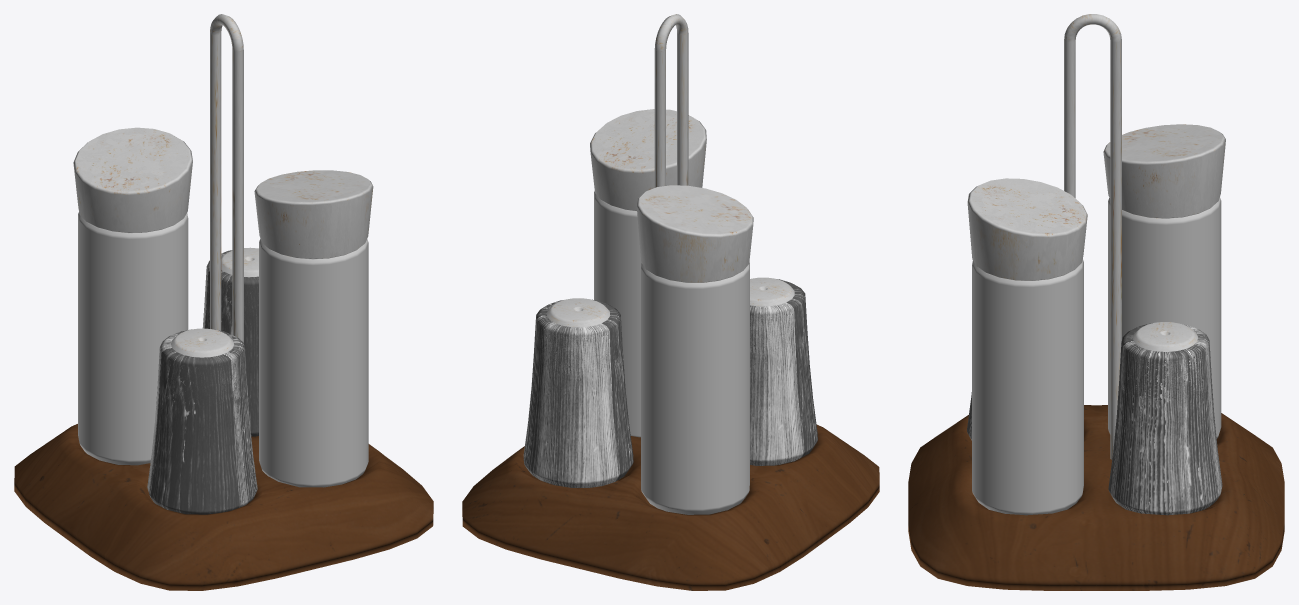
Rendered from SM_KitchenGoods_B1.fbx.
3 renders of one model, left to right at view 1: azimuth 30°, elevation 25°; view 2: azimuth 150°, elevation 25°; view 3: azimuth 270°, elevation 25°, orthographic. The views are drawn at different scales.
Visible parts, largest first — view 1: SM_KitchenGoods_B1; view 2: SM_KitchenGoods_B1; view 3: SM_KitchenGoods_B1.
Boxes of the visible parts, bbox=[...] form: SM_KitchenGoods_B1: bbox=[14, 14, 433, 590]; SM_KitchenGoods_B1: bbox=[462, 14, 879, 590]; SM_KitchenGoods_B1: bbox=[908, 14, 1284, 590].
Bounding box in the file's own units: 12.94 × 13.14 × 19.25.
6 materials, 3 textured.
